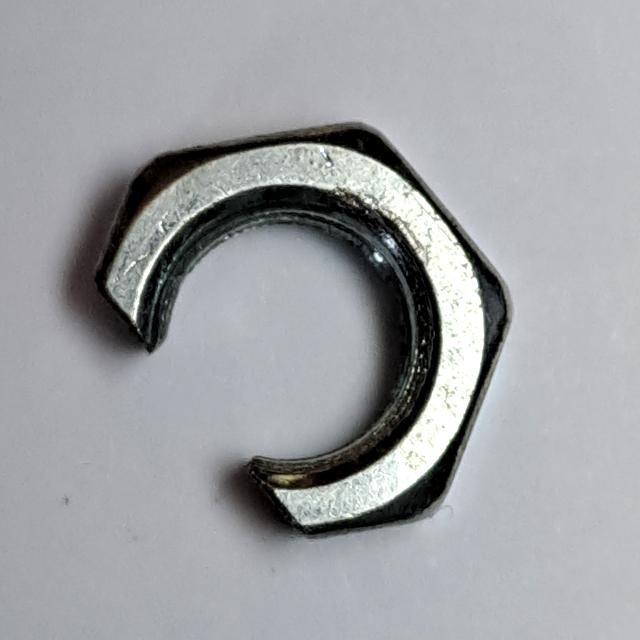Fracture: (83, 102, 525, 553)
